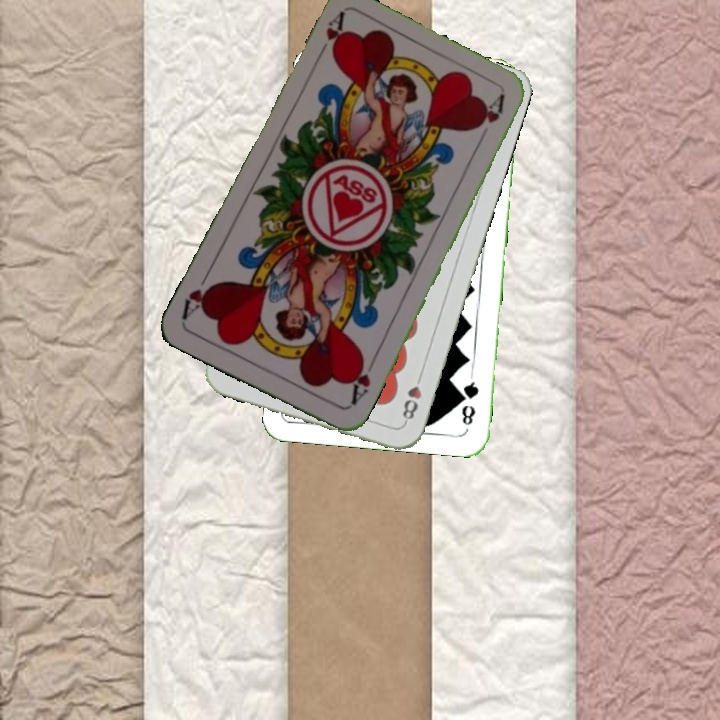G8: (457, 378, 482, 428)
H8: (398, 369, 425, 426)
HA: (311, 9, 349, 65), (346, 352, 379, 408)
